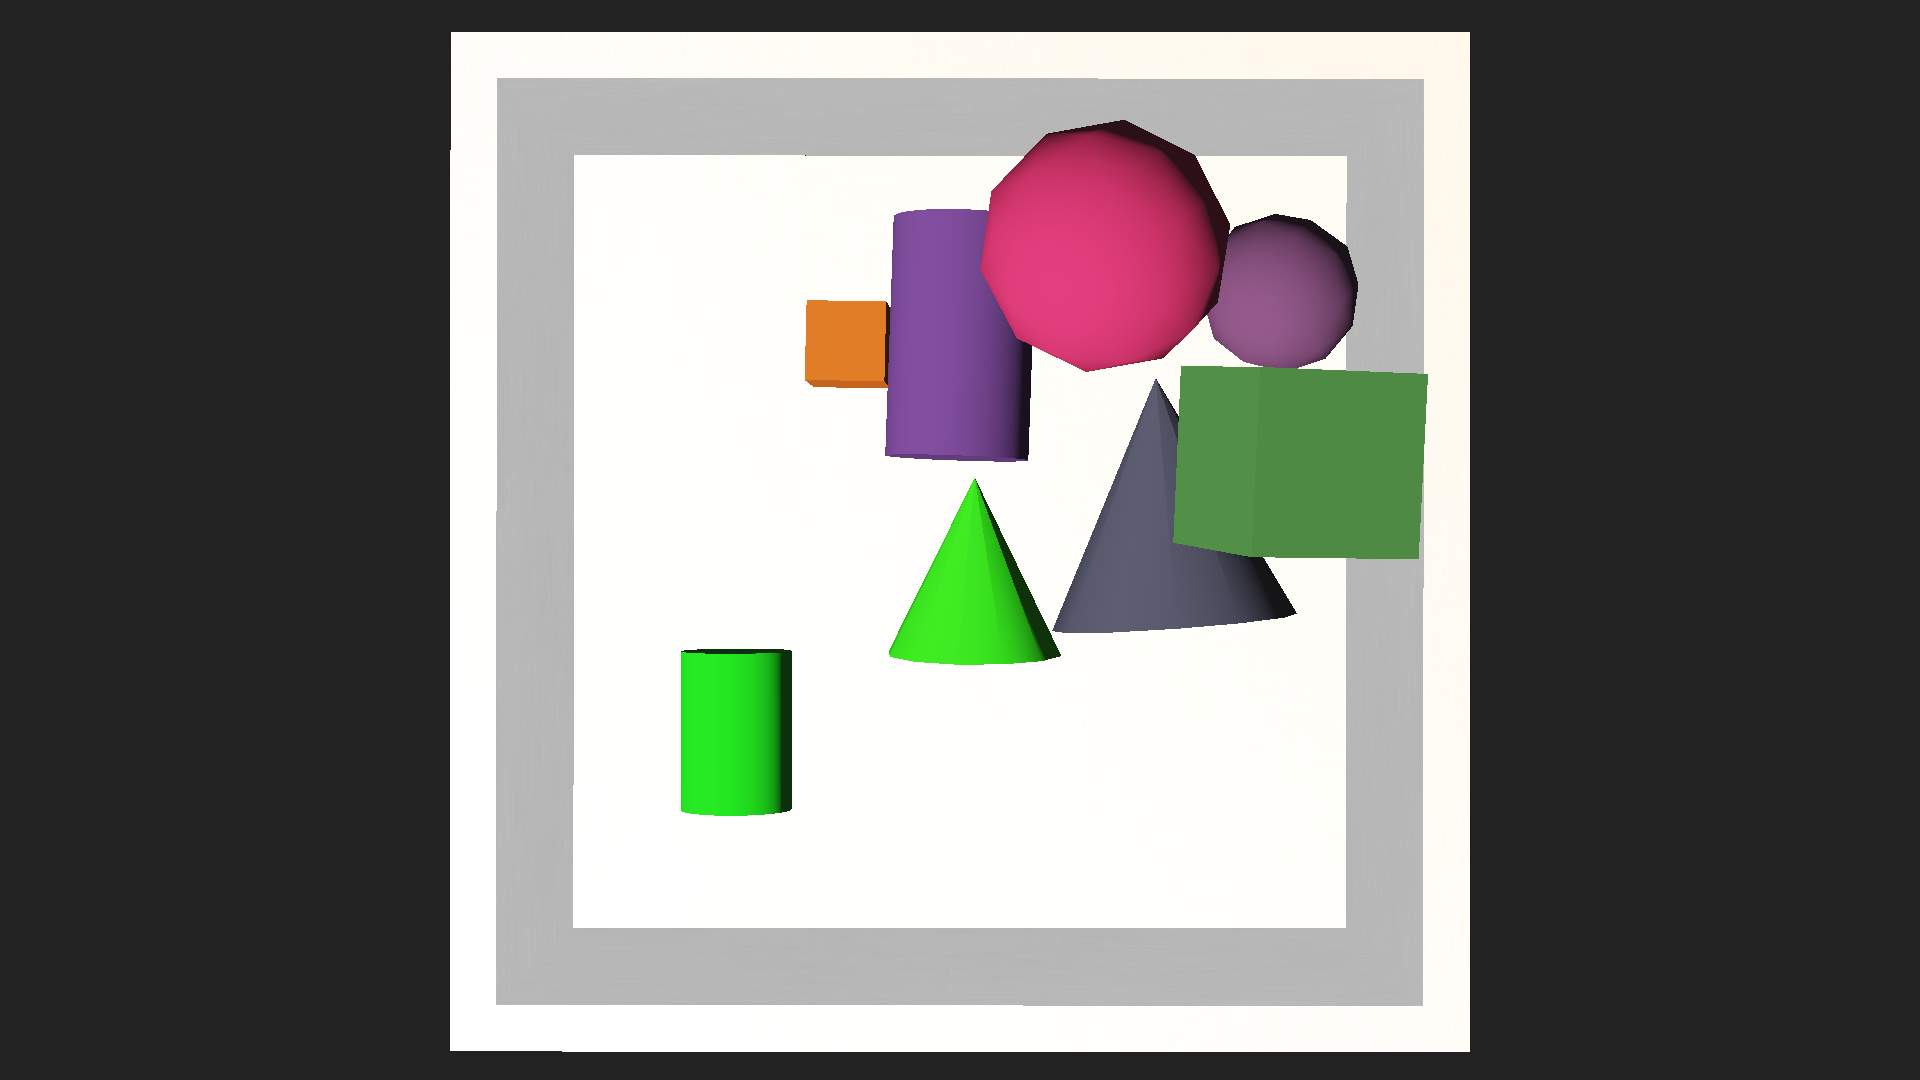3: (1167, 352, 1439, 559), (803, 299, 893, 389)
cone: (882, 206, 1038, 462), (673, 647, 795, 815)
cylinder: (1022, 356, 1324, 638), (877, 467, 1073, 665)
sphere: (977, 120, 1232, 373), (1199, 212, 1360, 372)
